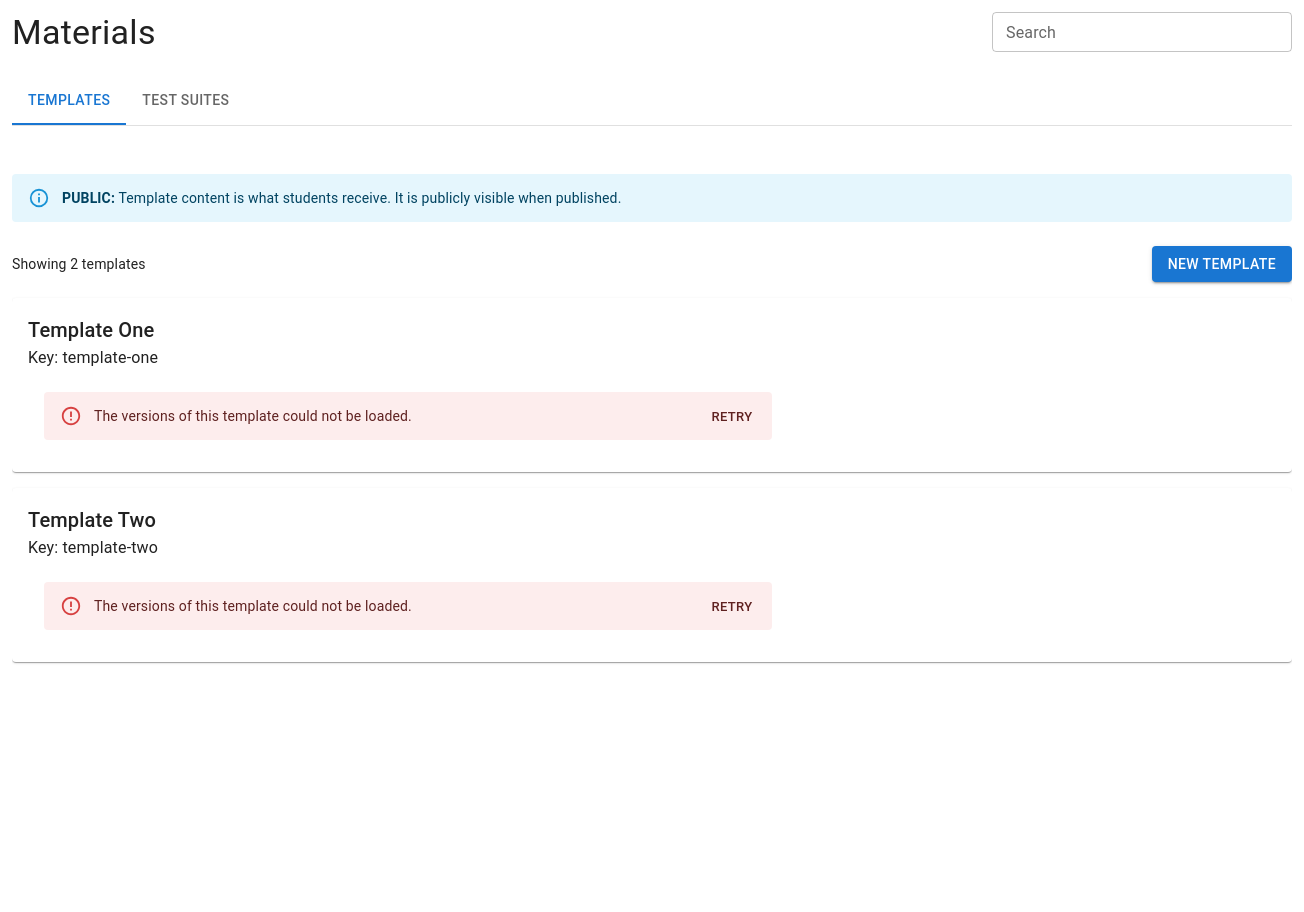
Test case: bounded instructor lists › loads every template and test suite rather than silently truncating materials
Expected: the heading "Template Two" is shown, [28,508,156,532]
Click the tab "Test Suites" at x=186, y=101, box [126,77,245,125]
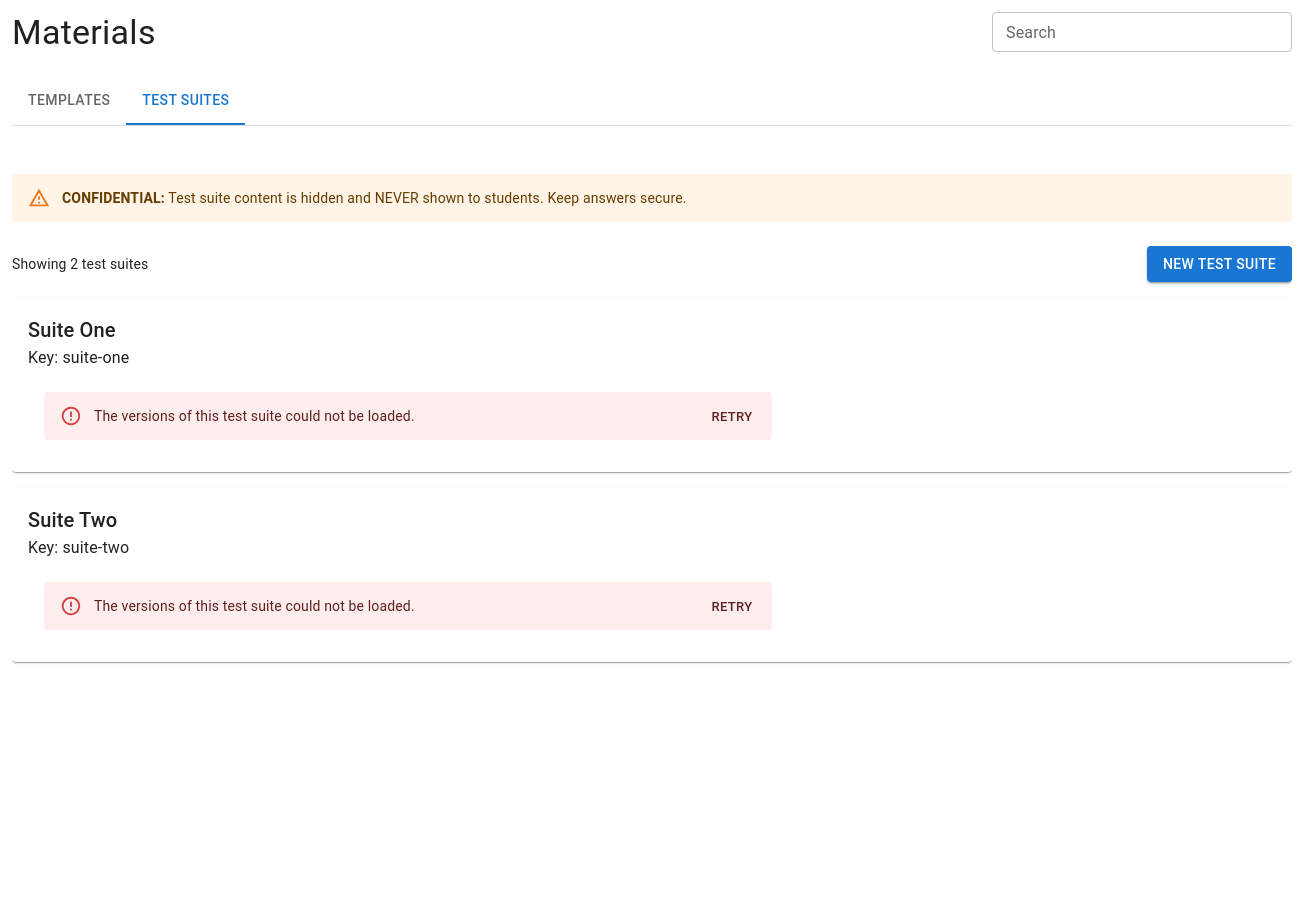
Expected: the heading "Suite Two" is shown, [28,508,117,532]
